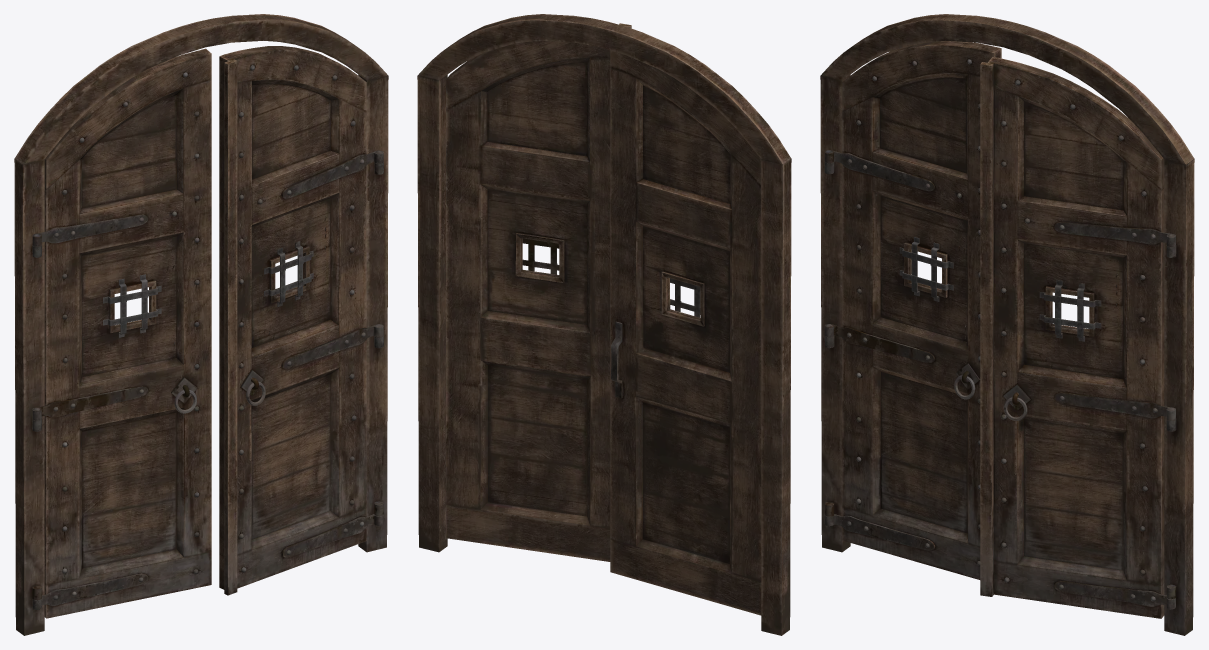
Rendered from large_castle_door.glb.
The picture shows the model from 3 angles, left to right: view 1: azimuth 30°, elevation 25°; view 2: azimuth 150°, elevation 25°; view 3: azimuth 330°, elevation 25°; orthographic projection.
Visible parts, largest first — view 1: large_castle_door_left, large_castle_door_right, large_castle_door_frame; view 2: large_castle_door_right, large_castle_door_left, large_castle_door_frame; view 3: large_castle_door_right, large_castle_door_left, large_castle_door_frame.
Part boxes in pixels (x1,y1,x2,y2): large_castle_door_left: (32, 48, 211, 618); large_castle_door_right: (219, 46, 383, 595); large_castle_door_frame: (14, 14, 388, 635); large_castle_door_right: (446, 23, 631, 561); large_castle_door_left: (610, 50, 761, 615); large_castle_door_frame: (417, 14, 791, 635); large_castle_door_right: (980, 57, 1175, 618); large_castle_door_left: (824, 41, 1001, 579); large_castle_door_frame: (820, 14, 1194, 635).
Size of the model in its own units: 2.01 by 2.96 by 0.2963.
1 material, 1 textured.
